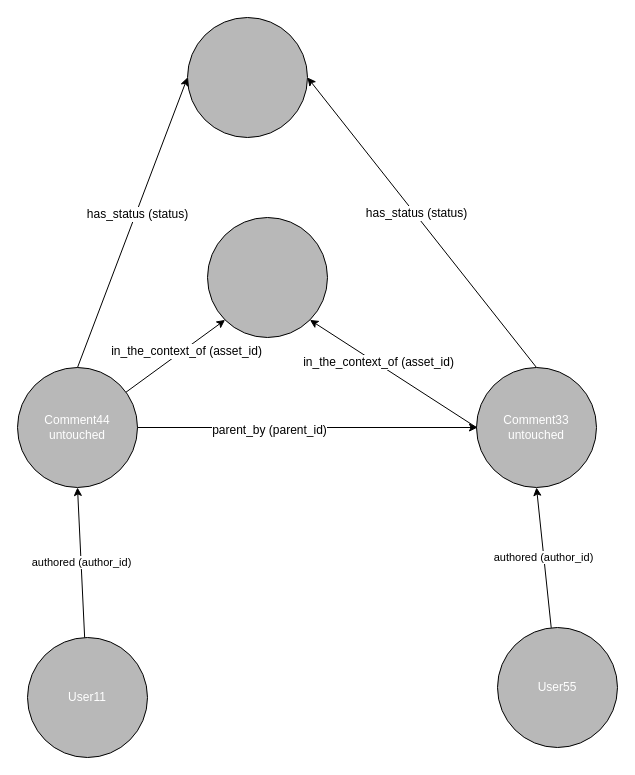
This 635x775 diagram has some shape labels left out. Each missing label, with the centre of its shape:
"Asset22" belongs at (267,277).
"Status66 untouched" belongs at (247,77).
